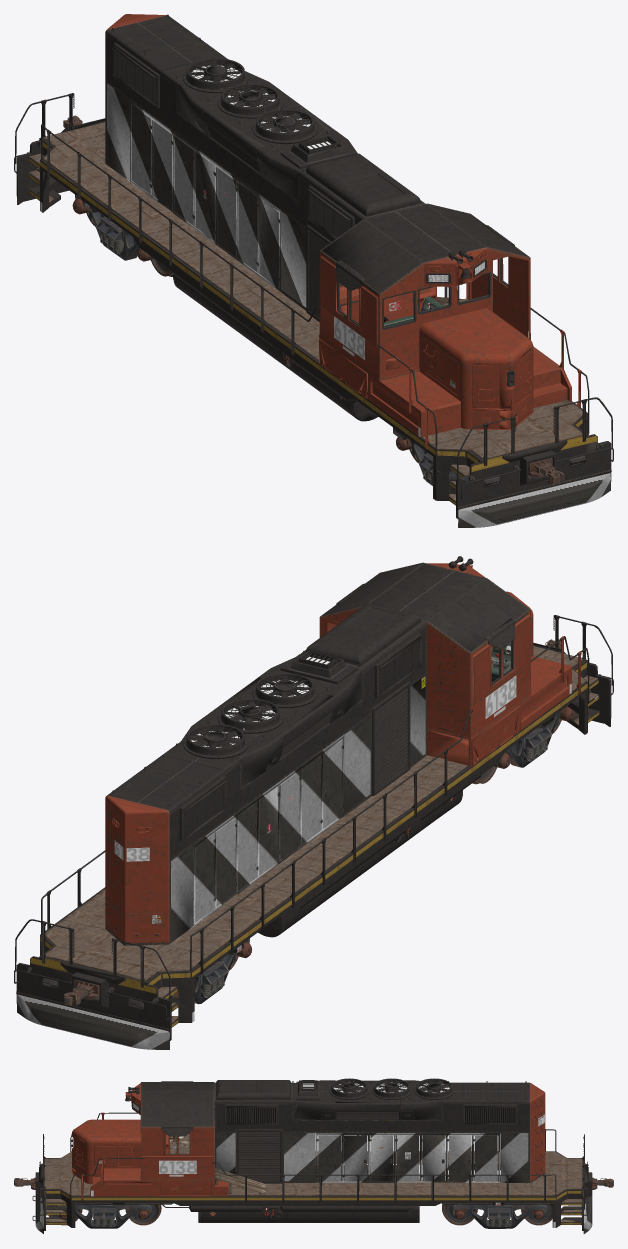
File: locomotive.entity.glb
3 renders of one model, top to bottom at view 1: azimuth 30°, elevation 25°; view 2: azimuth 150°, elevation 25°; view 3: azimuth 270°, elevation 25°, orthographic. The views are drawn at different scales.
Parts seen in each view (by area): view 1: Train_LOD0, TrainCabin_LOD0, BackTrucks_LOD0, FrontTrucks_LOD0, Coupler_LOD0; view 2: Train_LOD0, FrontTrucks_LOD0, BackTrucks_LOD0, Coupler_LOD0; view 3: Train_LOD0, BackTrucks_LOD0, FrontTrucks_LOD0, WoodSlope, TrainCabin_LOD0, Coupler_LOD0.
Part boxes in pixels (box(x1,y1,x2,y2)): Train_LOD0: box(14, 14, 613, 527); TrainCabin_LOD0: box(339, 256, 528, 337); BackTrucks_LOD0: box(72, 190, 211, 276); FrontTrucks_LOD0: box(396, 437, 459, 494); Coupler_LOD0: box(63, 115, 564, 485); Train_LOD0: box(14, 556, 613, 1049); FrontTrucks_LOD0: box(472, 706, 575, 784); BackTrucks_LOD0: box(168, 938, 251, 1004); Coupler_LOD0: box(64, 639, 561, 1005); Train_LOD0: box(32, 1078, 592, 1233); BackTrucks_LOD0: box(442, 1175, 552, 1228); FrontTrucks_LOD0: box(47, 1195, 161, 1228); WoodSlope: box(215, 1168, 265, 1194); TrainCabin_LOD0: box(166, 1116, 214, 1177); Coupler_LOD0: box(14, 1177, 613, 1189).
Size of the model in its own units: 3.96 by 4.98 by 20.48.
16 materials, 15 textured.
